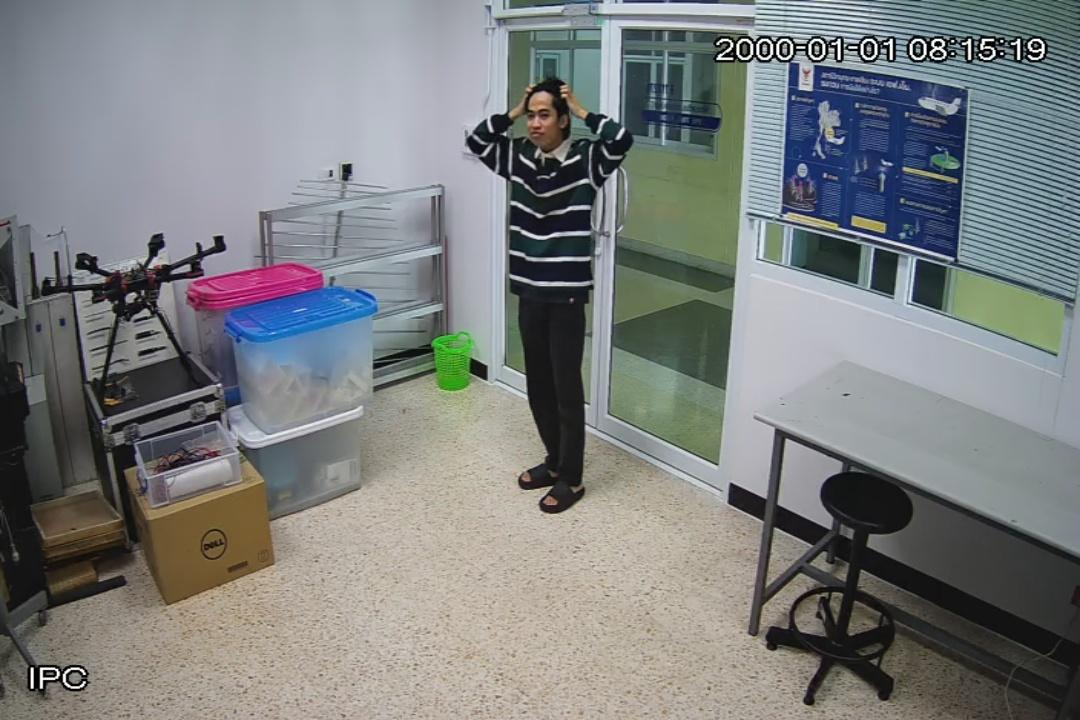normal: (470, 63, 633, 527)
